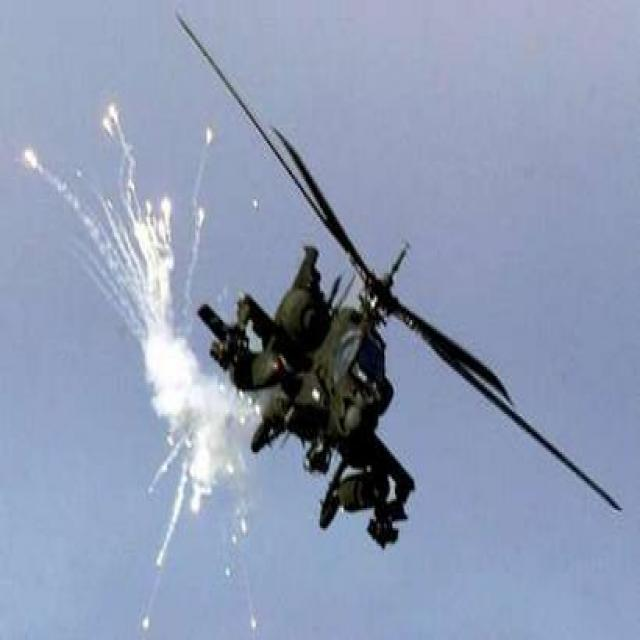MIL_HELO: (171, 14, 629, 563)
